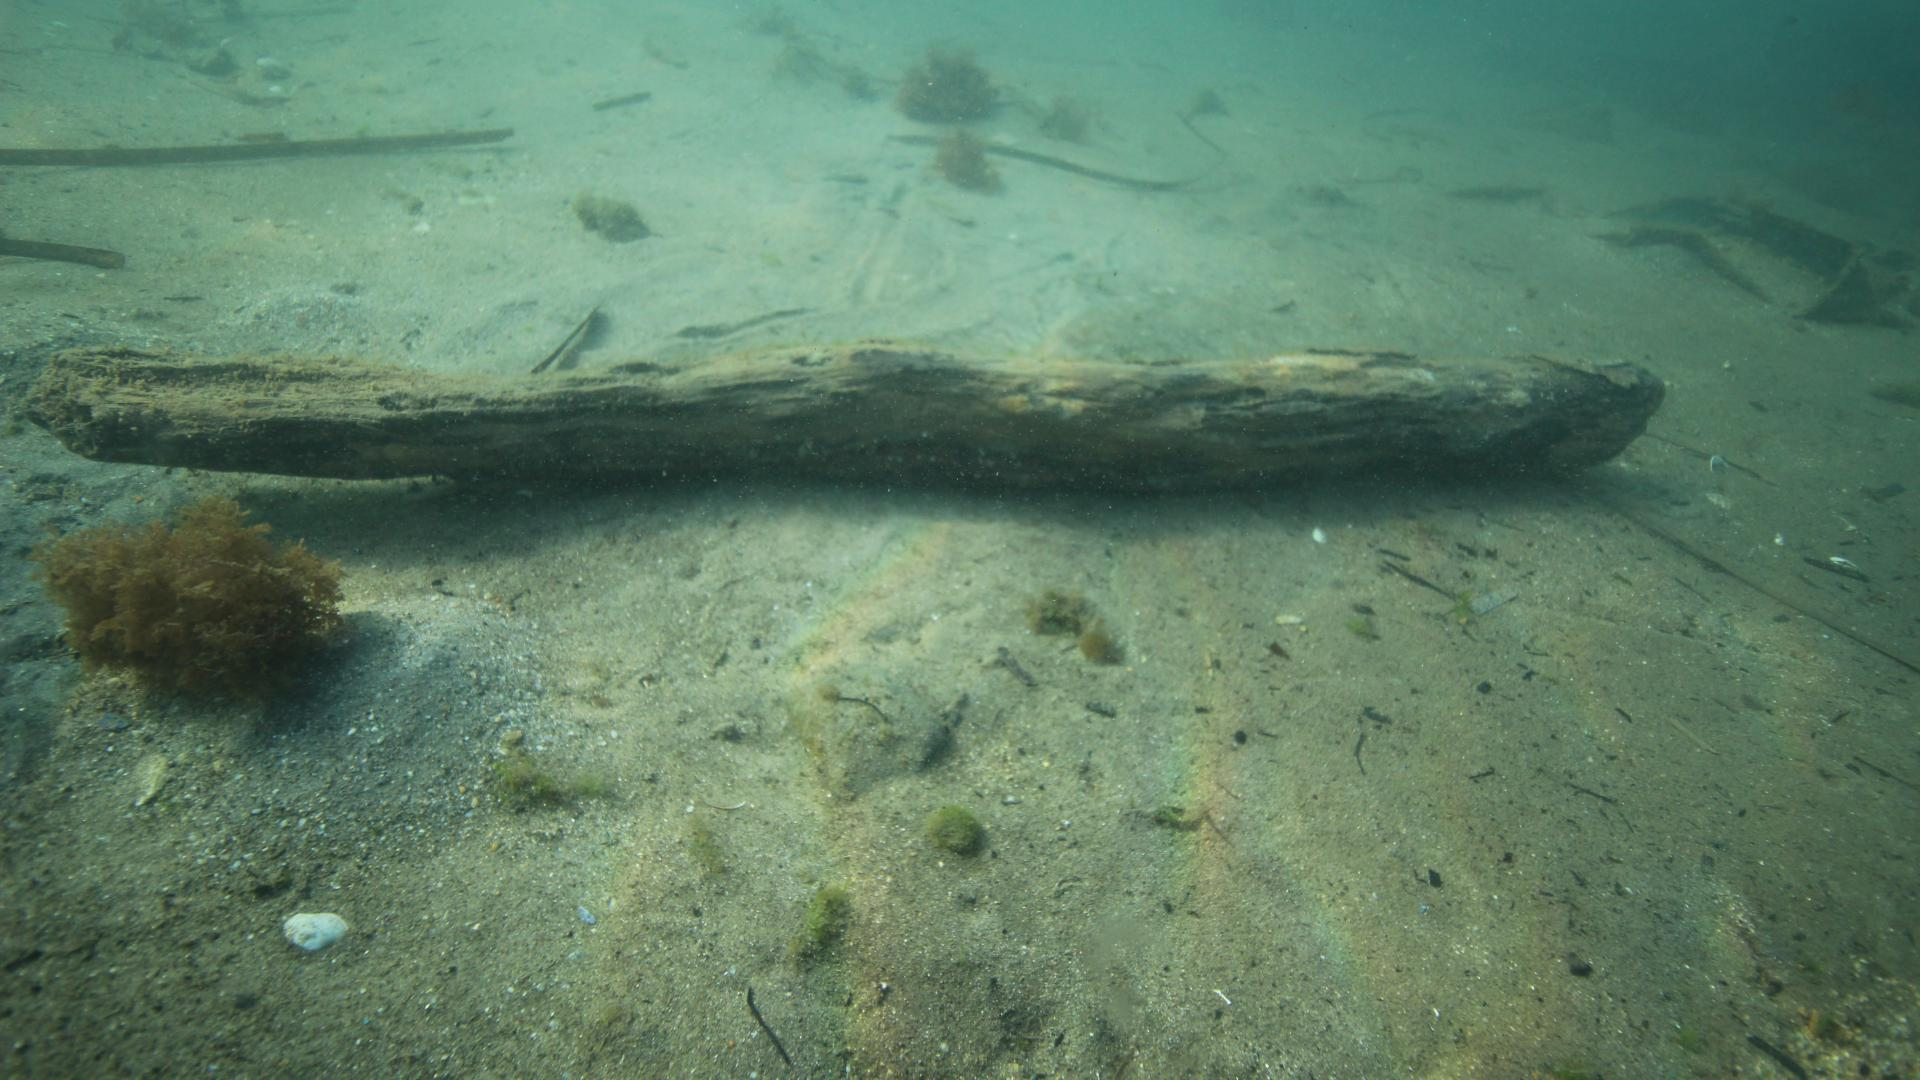wood: (21, 335, 1669, 502)
